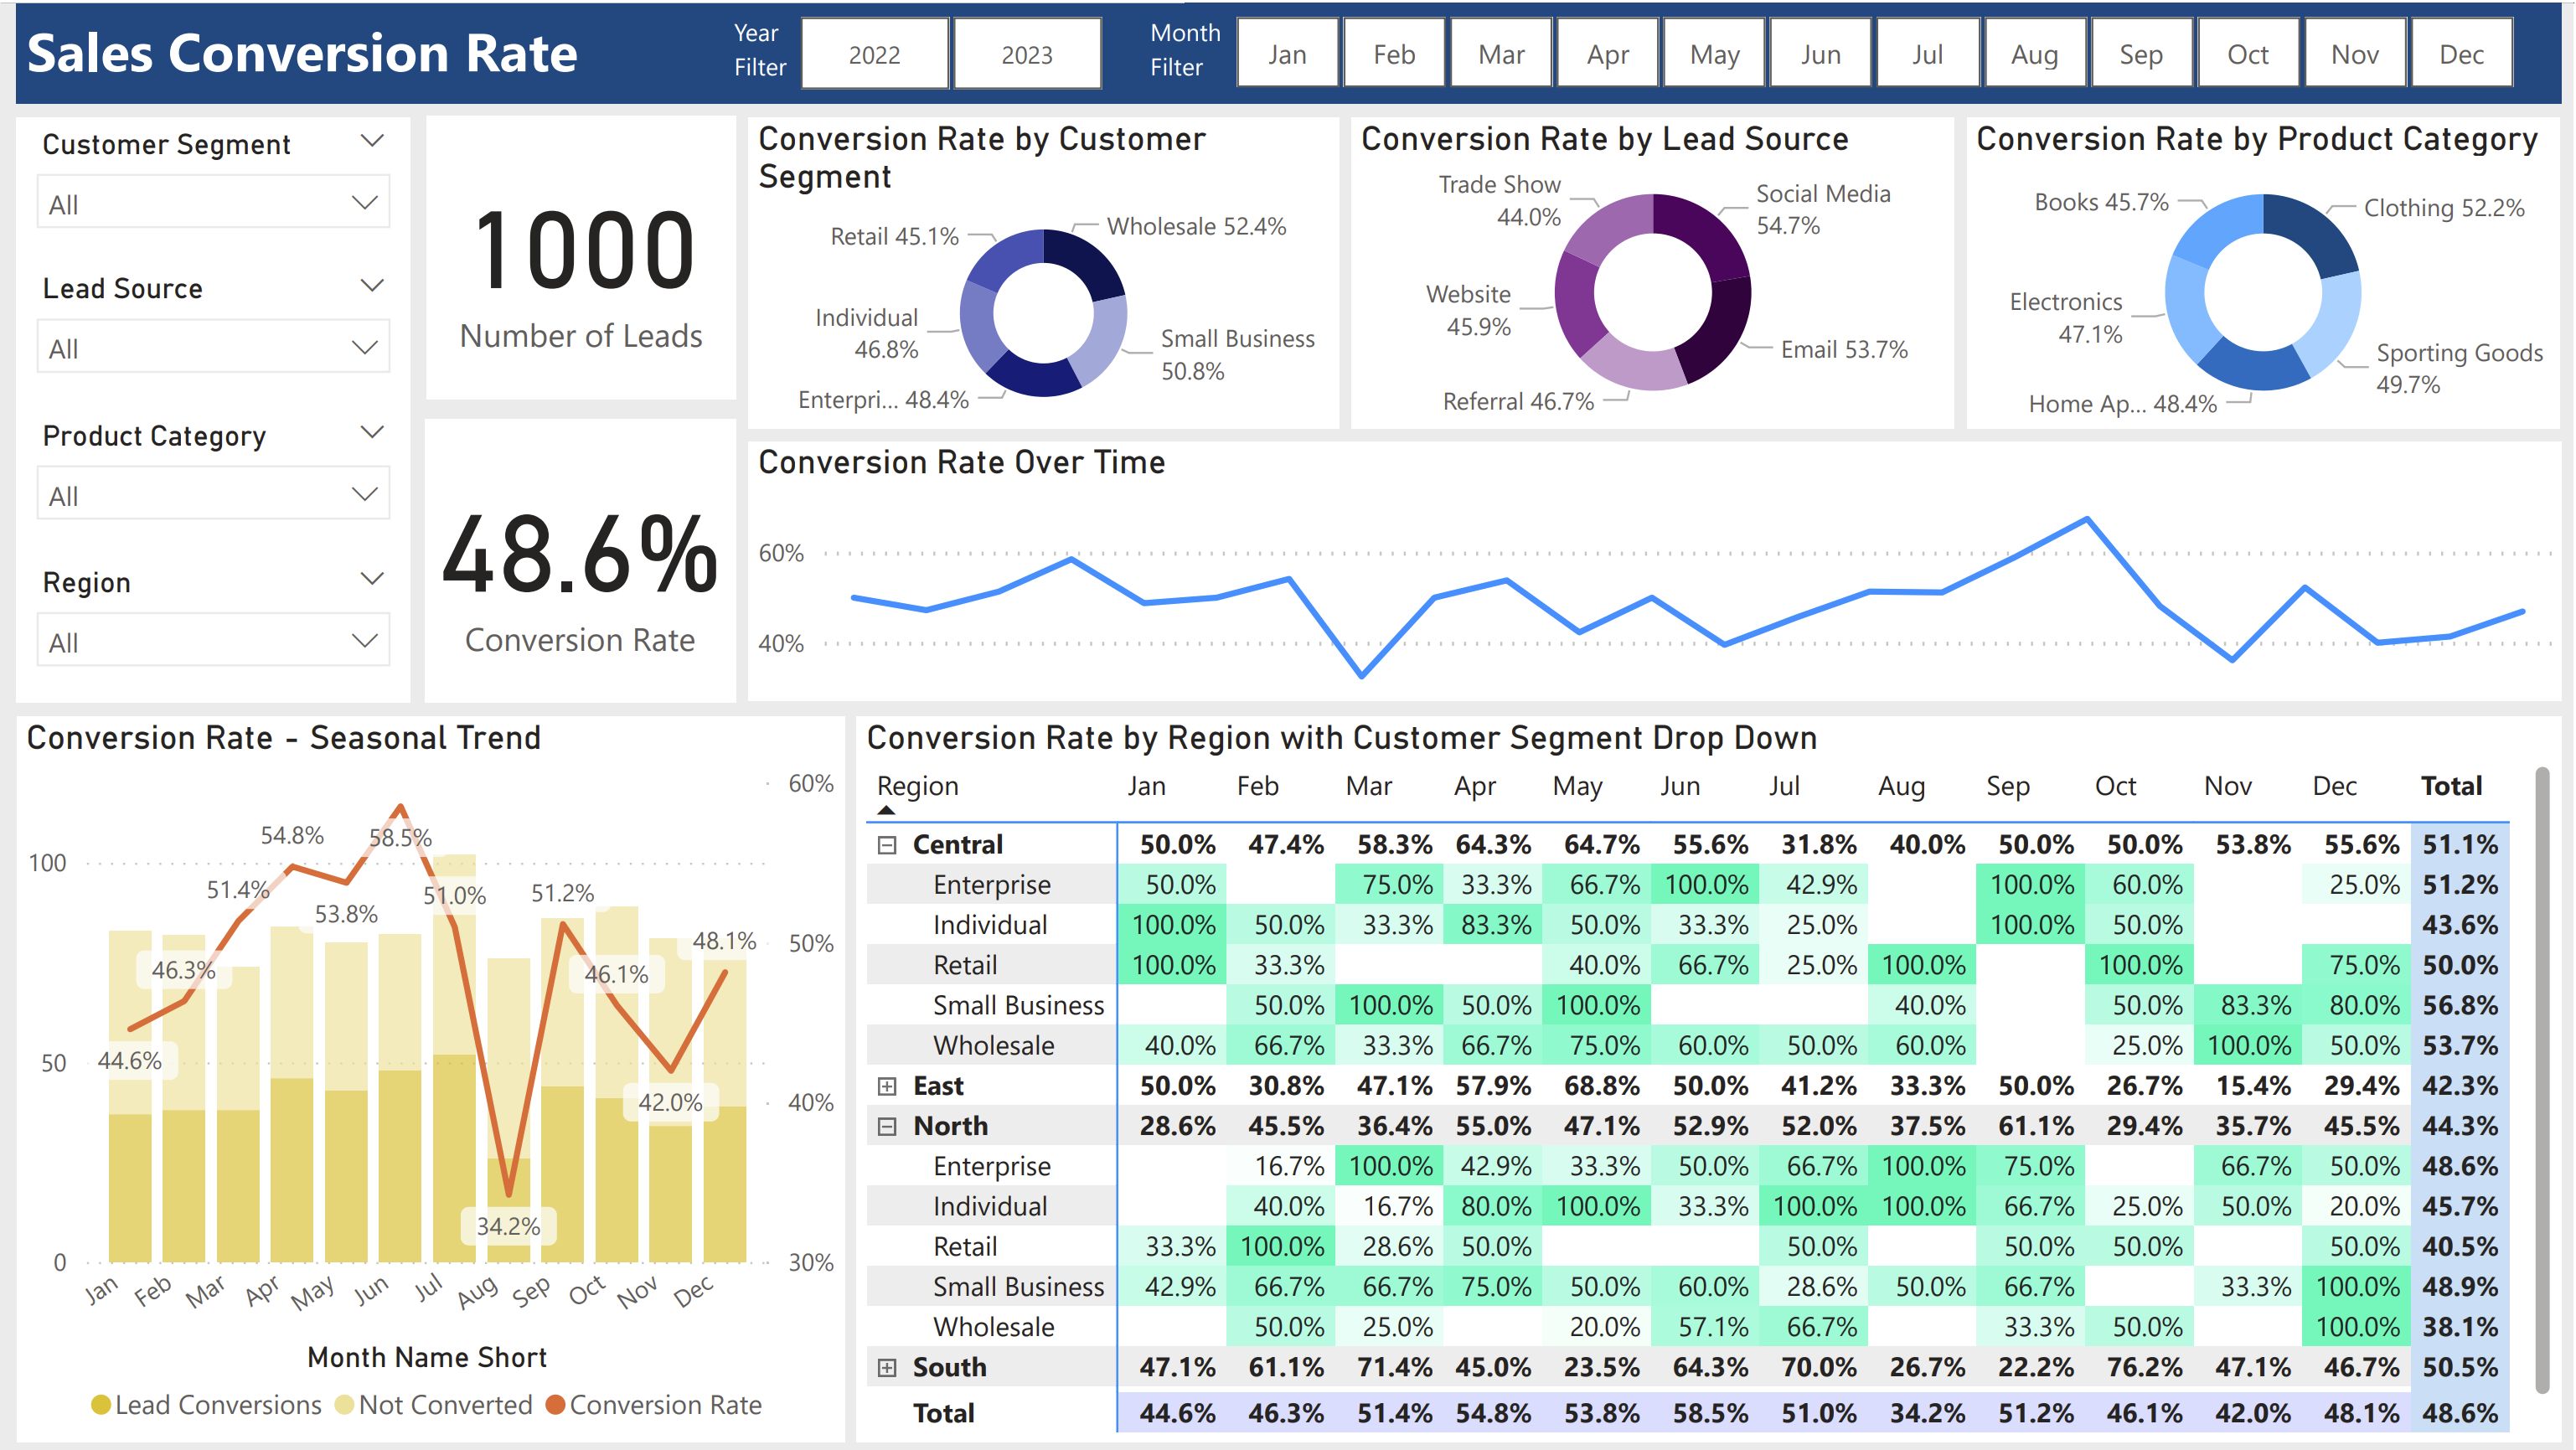

The dashboard page shown, as its layout file describes it:
{"tool":"powerbi","page":{"name":"Sales Conversion Rate","canvas":[1280,720],"ordinal":0},"visuals":[{"type":"textbox","box":[7.8,0,1266.1,49.7],"z":0},{"type":"slicer","fields":{"Values":["Data.Customer Segment"]},"box":[8.1,56.8,195.9,72.3],"z":1000},{"type":"slicer","fields":{"Values":["Data.Product Category"]},"box":[7.9,201.9,196.3,72.7],"z":2000},{"type":"slicer","fields":{"Values":["Data.Lead Source"]},"box":[7.9,129.2,196.3,72.7],"z":3000},{"type":"slicer","fields":{"Values":["Data.Region"]},"box":[7.9,275,196.3,72.7],"z":4000},{"type":"card","fields":{"Values":["Data.Number of Leads"]},"box":[211.7,56.3,154.4,140.8],"z":5000},{"type":"card","fields":{"Values":["Data.Conversion Rate"]},"box":[211.2,207,154.6,140.6],"z":6000},{"type":"slicer","fields":{"Values":["Date Table.Year"]},"box":[372,0,200,49.7],"z":7000},{"type":"slicer","fields":{"Values":["Date Table.Month Name Short"]},"box":[588.9,0,684.7,48.6],"z":8000},{"type":"textbox","box":[567.2,0,66.4,49],"z":9000},{"type":"textbox","box":[360.2,0,60.1,51.8],"z":10000},{"type":"donutChart","fields":{"Y":["Data.Conversion Rate"],"Category":["Data.Product Category"]},"box":[978.4,56.6,295.1,155.3],"z":11000},{"type":"donutChart","fields":{"Y":["Data.Conversion Rate"],"Category":["Data.Customer Segment"]},"box":[372,56.6,293.7,155.3],"z":12000},{"type":"donutChart","fields":{"Y":["Data.Conversion Rate"],"Category":["Data.Lead Source"]},"box":[672.1,56.6,300,155.3],"z":13000},{"type":"lineStackedColumnComboChart","title":"Conversion Rate - Seasonal Trend","fields":{"Category":["Date Table.Month Name Short"],"Y":["Data.Number of Lead Conversions","Data.Number of Leads No Conversion"],"Y2":["Data.Conversion Rate"]},"box":[8.1,355.4,412.2,360.1],"z":14000},{"type":"pivotTable","title":"Conversion Rate by Region with Customer Segment Drop Down","fields":{"Rows":["Data.Region","Data.Customer Segment"],"Columns":["Date Table.Month Name Short"],"Values":["Data.Conversion Rate"]},"box":[426.4,355.4,847.3,360.1],"z":15000},{"type":"lineChart","title":"Conversion Rate Over Time","fields":{"Category":["Date Table.Year","Date Table.Month Name Short"],"Y":["Data.Conversion Rate"]},"box":[372.3,217.6,902,129.7],"z":16000}]}

Visuals, with their boxes in screenshot pixels (x1, y1, x2, y2), scaled from the page's 1280x720 canvas onto the 2576x1450 screenshot:
textbox: box(16, 0, 2563, 100)
slicer - Data.Customer Segment: box(16, 115, 410, 260)
slicer - Data.Product Category: box(16, 406, 411, 553)
slicer - Data.Lead Source: box(16, 261, 411, 406)
slicer - Data.Region: box(16, 554, 411, 700)
card - Data.Number of Leads: box(426, 113, 736, 397)
card - Data.Conversion Rate: box(425, 417, 736, 700)
slicer - Date Table.Year: box(749, 0, 1151, 100)
slicer - Date Table.Month Name Short: box(1185, 0, 2563, 98)
textbox: box(1142, 0, 1275, 99)
textbox: box(725, 0, 846, 105)
donutChart - Data.Conversion Rate x Data.Product Category: box(1969, 114, 2563, 426)
donutChart - Data.Conversion Rate x Data.Customer Segment: box(749, 114, 1340, 426)
donutChart - Data.Conversion Rate x Data.Lead Source: box(1353, 114, 1956, 426)
"Conversion Rate - Seasonal Trend" lineStackedColumnComboChart: box(16, 715, 846, 1441)
"Conversion Rate by Region with Customer Segment Drop Down" pivotTable: box(858, 715, 2563, 1441)
"Conversion Rate Over Time" lineChart: box(749, 438, 2564, 699)
